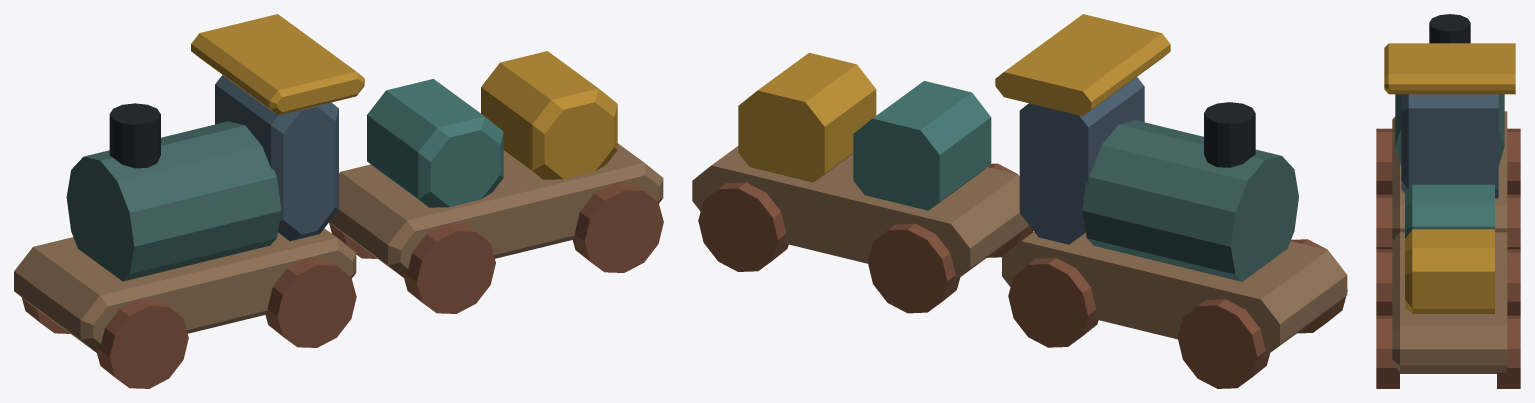
Rendered from H-04_toy_train.glb.
The picture shows the model from 3 angles, left to right: view 1: azimuth 30°, elevation 25°; view 2: azimuth 150°, elevation 25°; view 3: azimuth 270°, elevation 25°; orthographic projection. The views are drawn at different scales.
Parts seen in each view (by area): view 1: H-04_toy_train; view 2: H-04_toy_train; view 3: H-04_toy_train.
Boxes of the visible parts, bbox=[...] form: H-04_toy_train: bbox=[14, 14, 663, 388]; H-04_toy_train: bbox=[692, 14, 1347, 388]; H-04_toy_train: bbox=[1376, 14, 1520, 388].
Size of the model in its own units: 0.368 by 0.1565 by 0.098.
